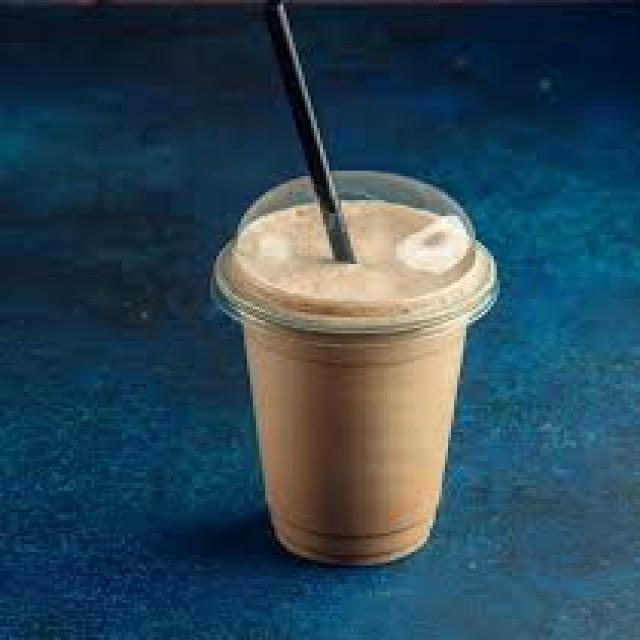bottle: (245, 320, 466, 564)
